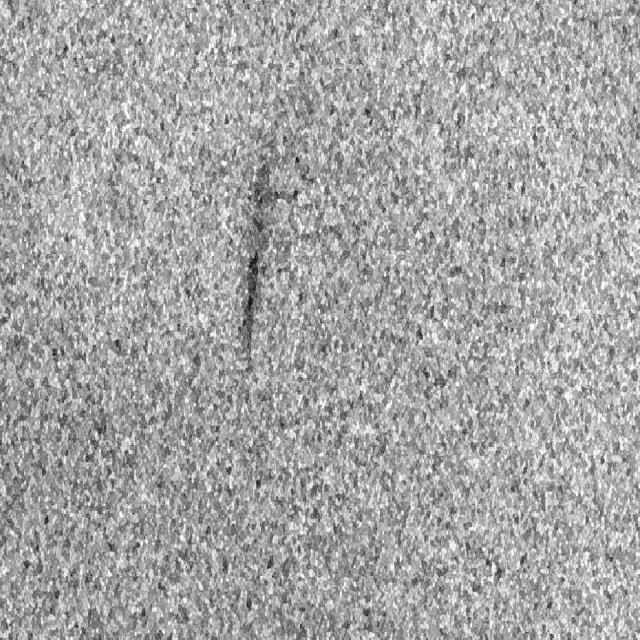oil-spill: (231, 168, 286, 368)
